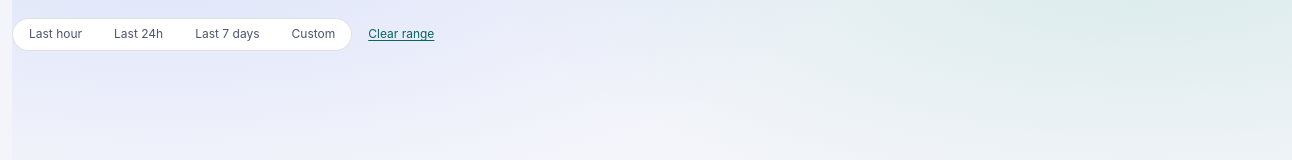
Test: TimeRangeFilter › pre-fills the custom inputs from an already-applied since/until (bookmarked URL case)
Click the button "Custom": (313, 34) [276, 19, 351, 50]
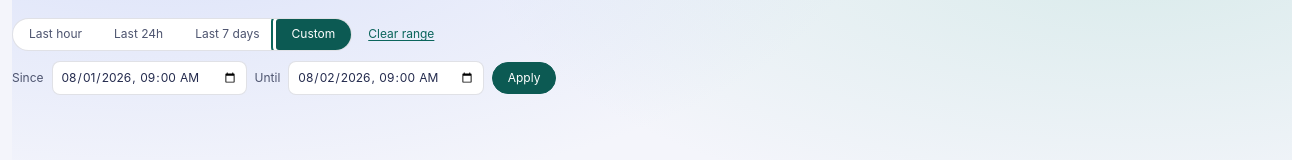
Now the field labelled "Since" holds "2026-08-01T09:00", box [52, 61, 246, 95]
Now the field labelled "Until" holds "2026-08-02T09:00", box [288, 61, 484, 95]
